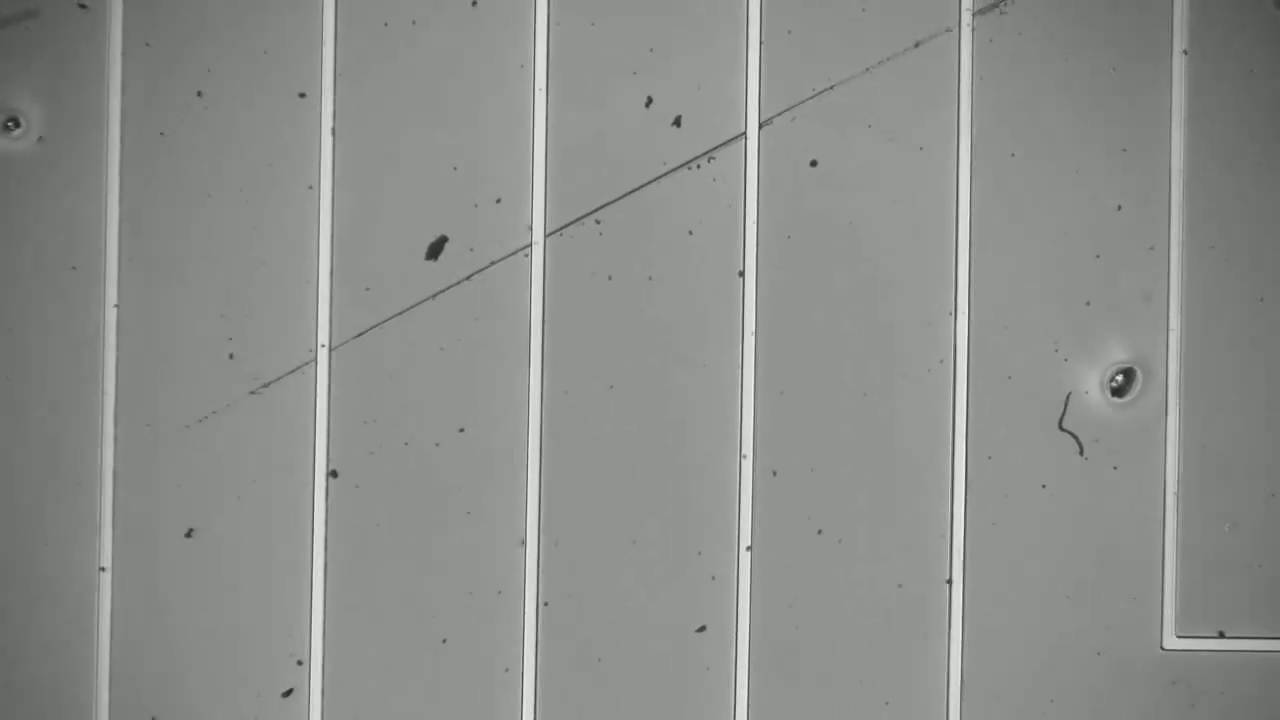scratch: (234, 14, 1001, 416)
